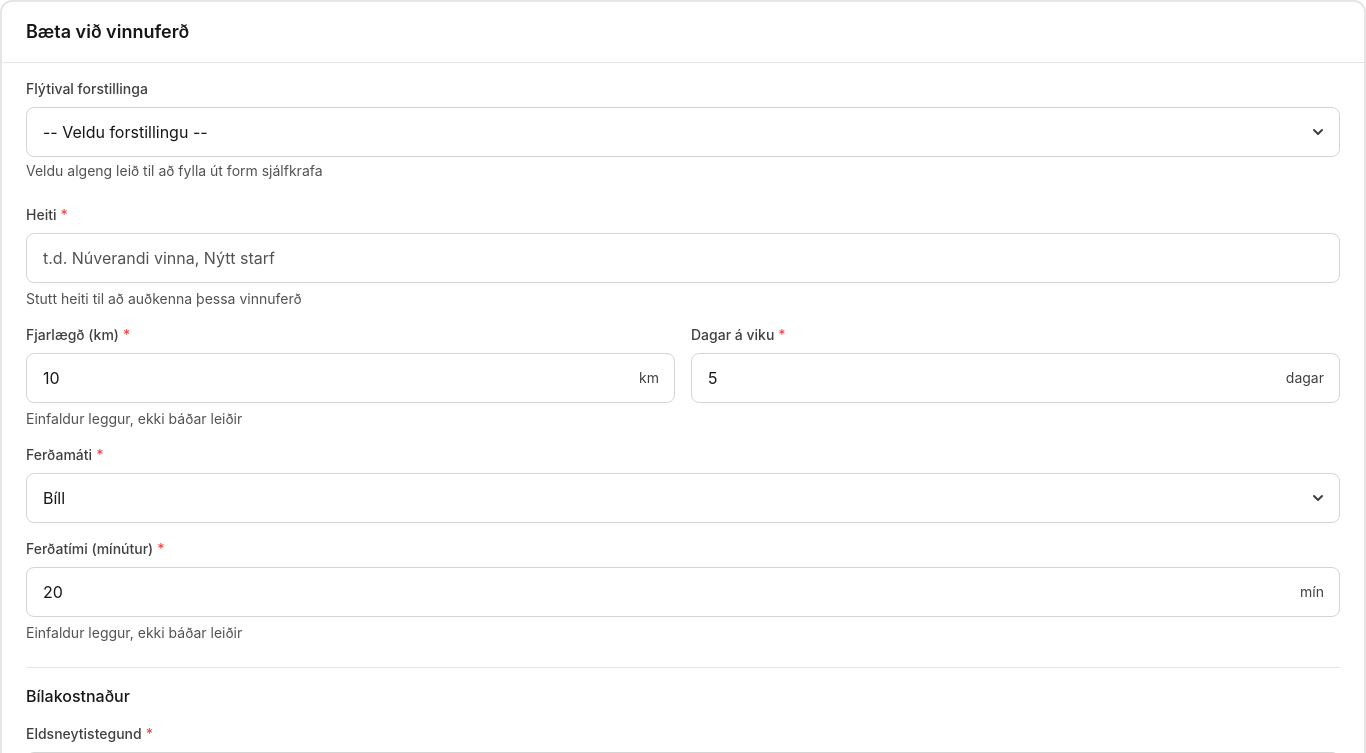
Scenario: CommuteForm › Conditional Fields › should hide car fields when switching from car to transit
// Switch to transit
Select "Almenningssamgöngur" in the dropdown labelled "Ferðamáti*". click: x=683, y=498
box: [26,473,1340,523]
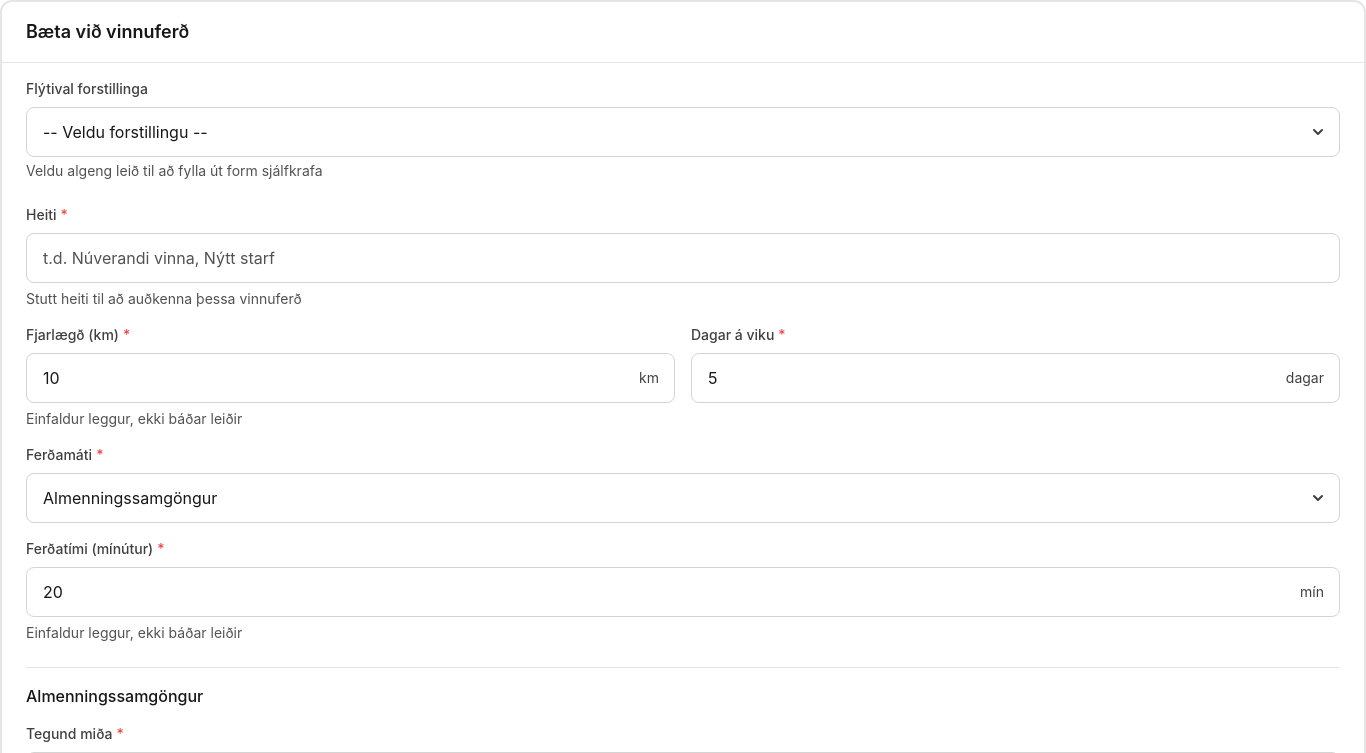
Check: the label labelled "Eldsneytistegund" is gone
